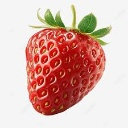strawberry: (24, 9, 110, 116)
